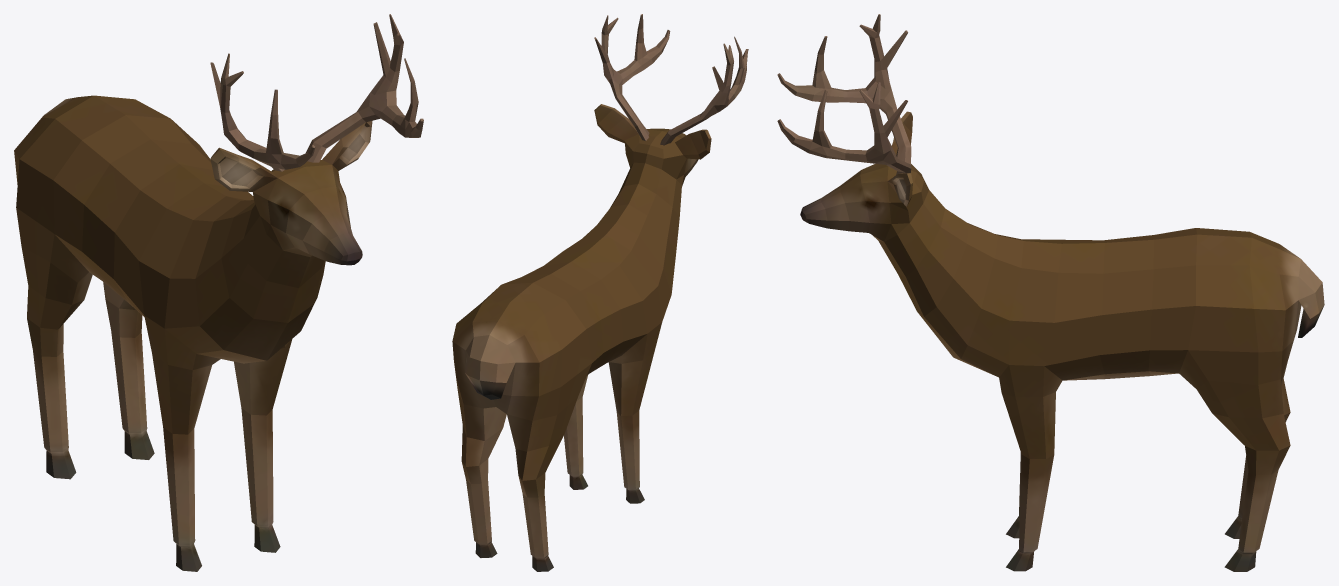
The model's file is animals-mule-deer-148.glb.
3 views of the same model, side by side, from view 1: azimuth 30°, elevation 25°; view 2: azimuth 150°, elevation 25°; view 3: azimuth 270°, elevation 25° (orthographic). The views are drawn at different scales.
Parts seen in each view (by area): view 1: MuleDeer_mesh; view 2: MuleDeer_mesh; view 3: MuleDeer_mesh.
Part boxes in pixels (box(x1,y1,x2,y2)): MuleDeer_mesh: box(14, 14, 423, 571); MuleDeer_mesh: box(452, 14, 748, 571); MuleDeer_mesh: box(777, 14, 1324, 571).
Size of the model in its own units: 4.79 by 14.89 by 14.69.
1 material, 1 textured.
